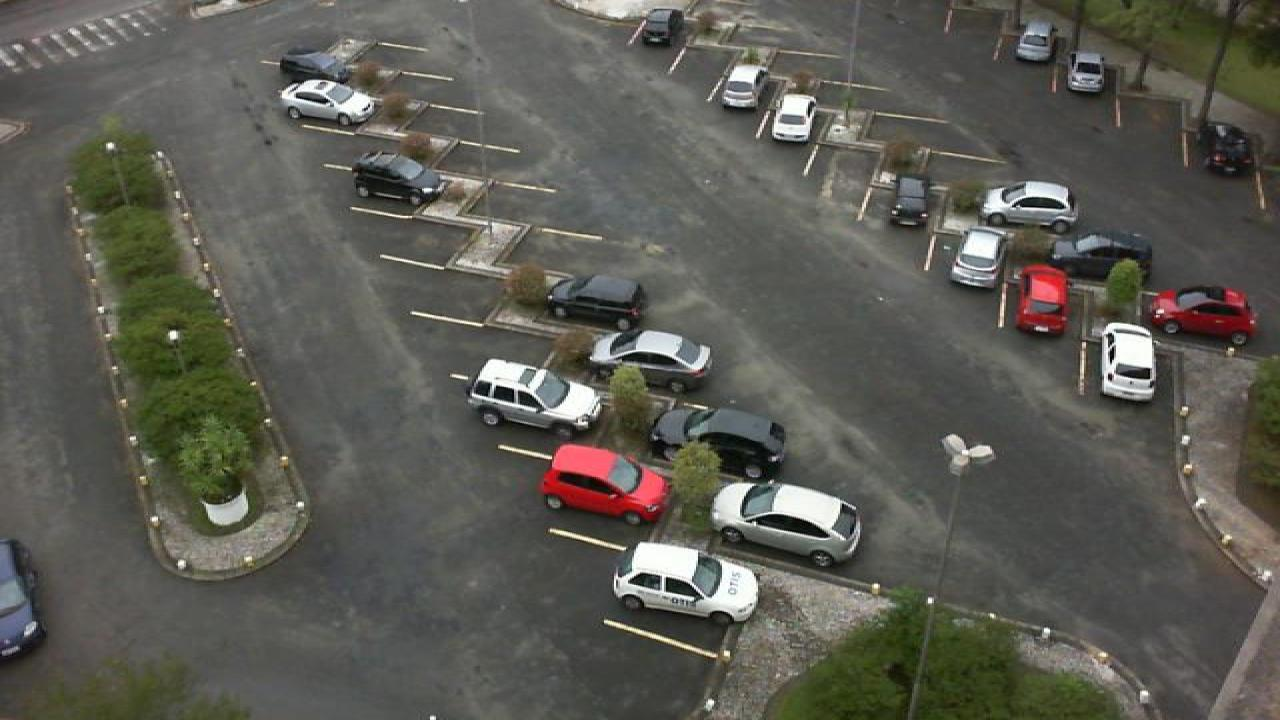Car: (708, 478, 866, 568), (608, 539, 762, 627), (536, 442, 672, 528), (462, 356, 604, 437), (648, 402, 788, 483), (588, 328, 714, 393), (1150, 282, 1260, 346), (544, 275, 648, 333), (0, 536, 46, 660), (980, 179, 1078, 234), (350, 151, 446, 207), (1098, 322, 1162, 402), (1050, 233, 1152, 283), (278, 79, 380, 127), (1012, 264, 1072, 336), (946, 227, 1008, 289), (1200, 120, 1258, 176), (278, 46, 354, 86), (768, 93, 818, 145), (886, 174, 932, 228), (718, 64, 764, 109), (1012, 20, 1056, 63), (1064, 50, 1106, 94), (638, 6, 684, 46)
